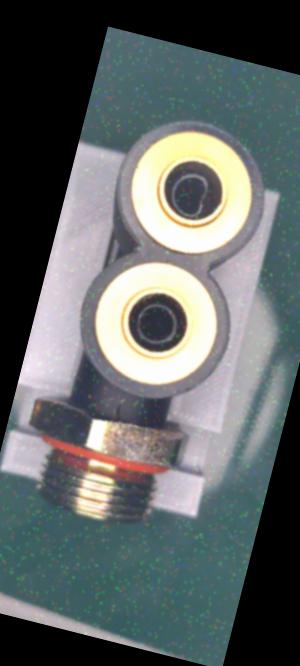craze: (104, 396, 134, 425)
off-centered: (154, 159, 225, 229)
